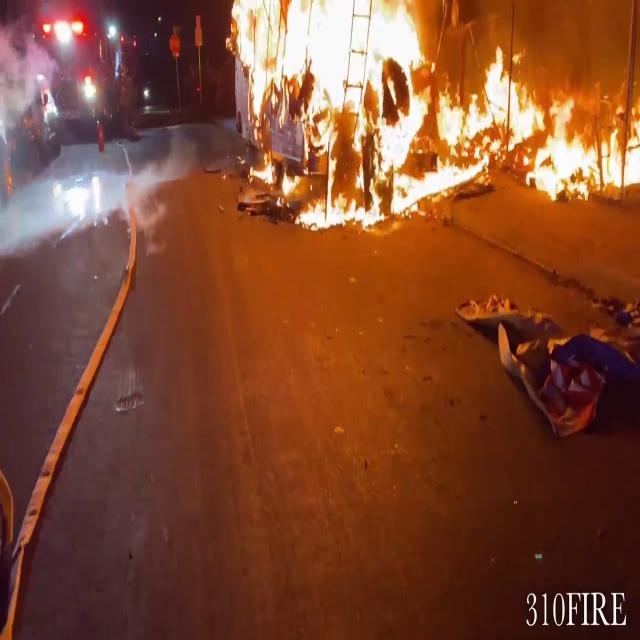Fire: (231, 0, 639, 223)
